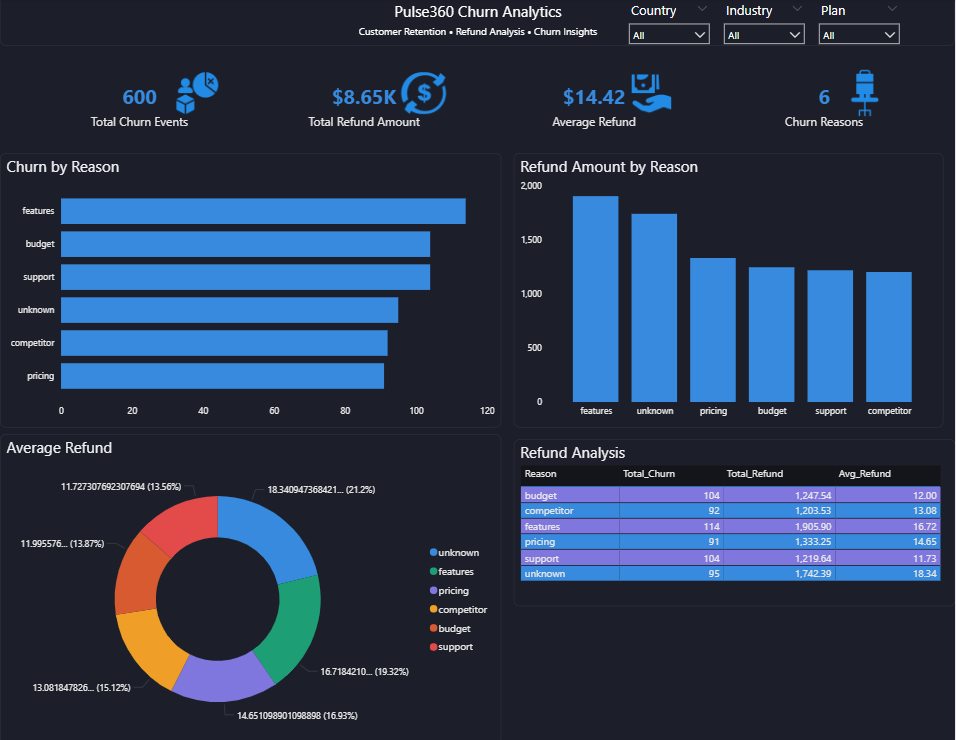

The page's visual inventory and layout, read from the dashboard file:
{"tool":"powerbi","page":{"name":"Churn Analytics","canvas":[1280,1000],"ordinal":4},"visuals":[{"type":"card","fields":{"Values":["KPI.Total Churn Events"]},"box":[64,96,247.1,96],"z":0},{"type":"shape","title":"Pulse360 Churn Analytics","box":[0,0,1280,64],"z":1000},{"type":"card","fields":{"Values":["KPI.Total Refund Amount"]},"box":[361.6,96,252.7,96],"z":2000},{"type":"card","fields":{"Values":["KPI.Average Refund"]},"box":[670.5,96,252.7,96],"z":3000},{"type":"clusteredBarChart","title":"Churn by Reason","fields":{"Category":["vw_churn_summary.reason_code"],"Y":["KPI.Total Churn Events"]},"box":[0,208,672,368],"z":4000},{"type":"card","fields":{"Values":["KPI.Churn Reasons"]},"box":[979.3,96,252.7,96],"z":5000},{"type":"donutChart","title":"Average Refund","fields":{"Category":["vw_churn_summary.reason_code"],"Y":["KPI.Average Refund"]},"box":[0,584,672,416],"z":6000},{"type":"clusteredColumnChart","title":"Refund Amount by Reason","fields":{"Category":["vw_churn_summary.reason_code"],"Y":["Sum(vw_churn_summary.Total_Refund)"]},"box":[688,208,576,368],"z":7000},{"type":"tableEx","title":"Refund Analysis","fields":{"Values":["vw_churn_summary.reason_code","vw_churn_summary.Total_Churn","vw_churn_summary.Total_Refund","vw_churn_summary.Avg_Refund"]},"box":[688,592,592,224],"z":8000},{"type":"slicer","fields":{"Values":["vw_customer360.country"]},"box":[832,0,128,64],"z":9000},{"type":"slicer","fields":{"Values":["vw_customer360.industry"]},"box":[960,0,128,64],"z":10000},{"type":"slicer","fields":{"Values":["vw_customer360.plan_tier"]},"box":[1088,0,128,64],"z":11000},{"type":"image","box":[224,96,80,64],"z":11001},{"type":"image","box":[528,96,80,64],"z":11002},{"type":"image","box":[832,96,80,64],"z":11003},{"type":"image","box":[1120,96,80,64],"z":11004}]}

Visuals, with their boxes in screenshot pixels (x1, y1, x2, y2), scaled from the page's 1280x1000 canvas onto the 956x740 screenshot:
card - KPI.Total Churn Events: (48,71,232,142)
"Pulse360 Churn Analytics" shape: (0,0,955,47)
card - KPI.Total Refund Amount: (270,71,459,142)
card - KPI.Average Refund: (501,71,690,142)
"Churn by Reason" clusteredBarChart: (0,154,502,426)
card - KPI.Churn Reasons: (731,71,920,142)
"Average Refund" donutChart: (0,432,502,739)
"Refund Amount by Reason" clusteredColumnChart: (514,154,944,426)
"Refund Analysis" tableEx: (514,438,955,604)
slicer - vw_customer360.country: (621,0,717,47)
slicer - vw_customer360.industry: (717,0,813,47)
slicer - vw_customer360.plan_tier: (813,0,908,47)
image: (167,71,227,118)
image: (394,71,454,118)
image: (621,71,681,118)
image: (836,71,896,118)
